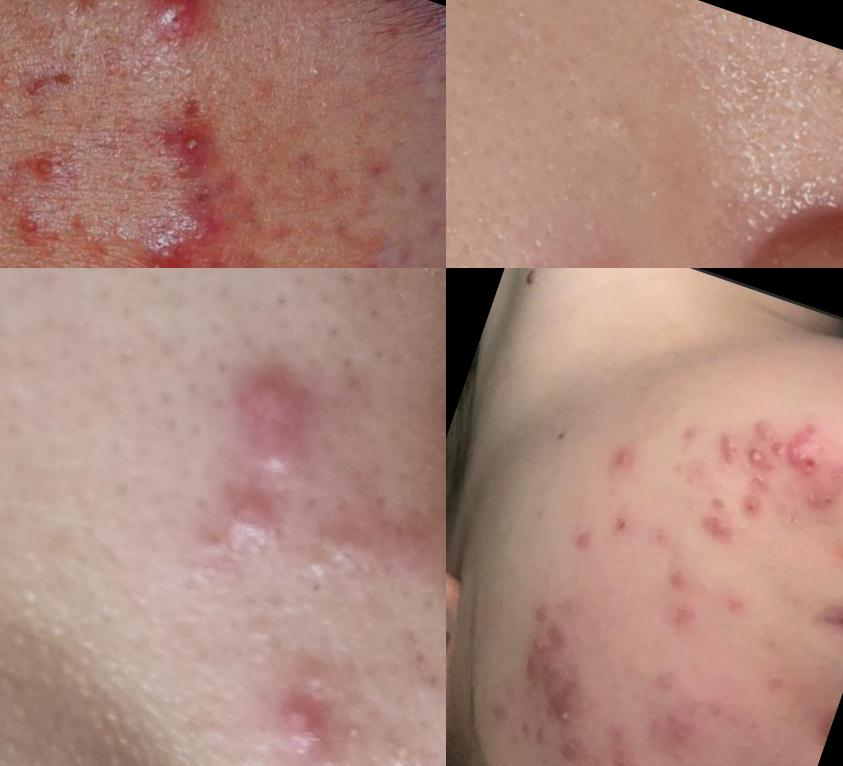cystic: (779, 425, 836, 487)
papular: (339, 479, 442, 584), (185, 473, 292, 573), (511, 203, 661, 269), (247, 370, 333, 484), (260, 691, 343, 766), (136, 1, 220, 46), (721, 467, 776, 529), (166, 189, 227, 240), (740, 410, 790, 455), (711, 576, 760, 621), (658, 596, 705, 641), (697, 507, 744, 550), (564, 523, 602, 563), (605, 441, 644, 479), (661, 563, 698, 596), (608, 508, 641, 543), (817, 532, 843, 576), (599, 745, 646, 766), (820, 456, 843, 494)
purulent: (27, 140, 81, 184), (7, 203, 51, 245), (168, 120, 212, 160)
sebo-crystan-conglo: (496, 597, 617, 734), (120, 215, 194, 269), (792, 480, 843, 522), (737, 440, 785, 480), (708, 428, 747, 476), (332, 246, 404, 269)
whitehead: (283, 643, 348, 705), (280, 539, 336, 597), (380, 727, 419, 766), (338, 708, 373, 750)
